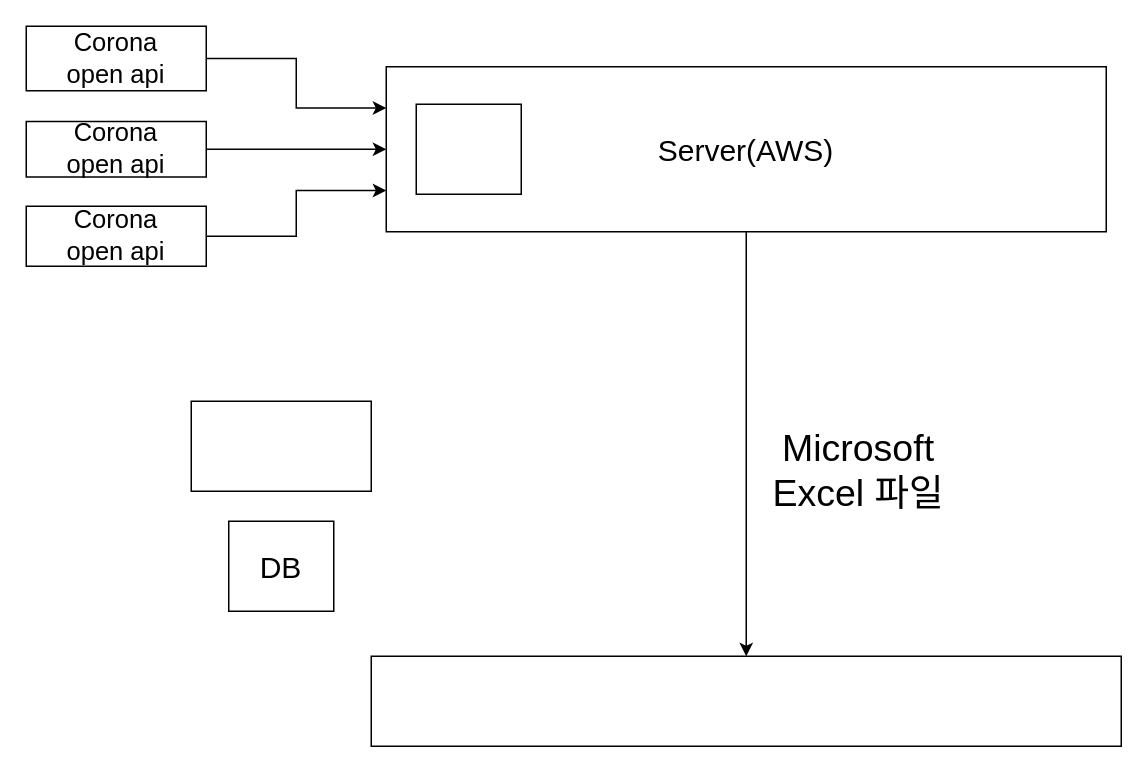
The diagram is 1148 pixels wide and 773 high, and some of its shapes have lost their labels. Each missing label, with the centre of its shape:
"Dash Board" goes at pixel 745 700.
"python" goes at pixel 468 148.
"Spark" goes at pixel 280 445.
